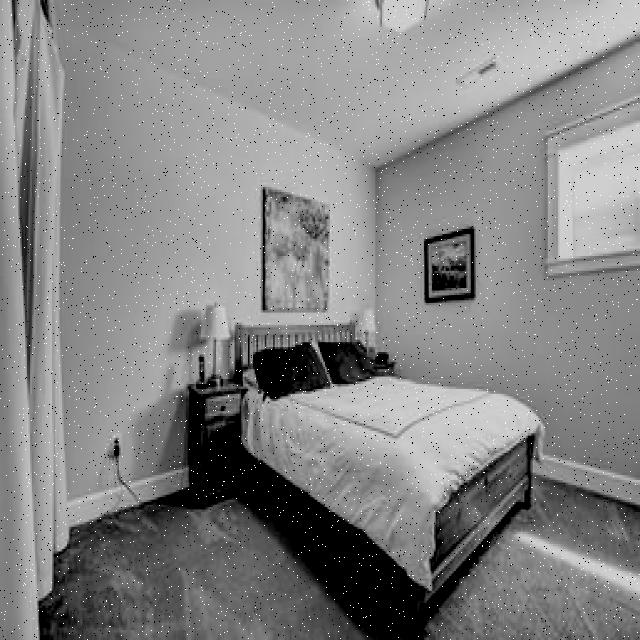bed: (247, 325, 540, 595)
